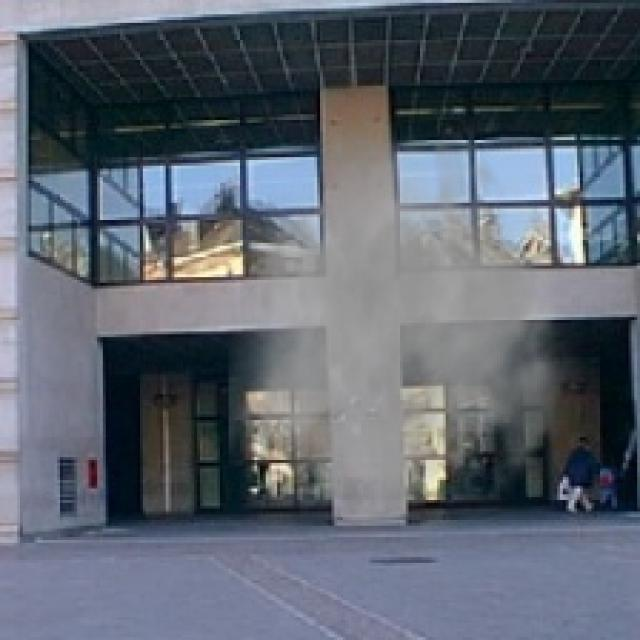Smoke: (228, 122, 592, 534)
